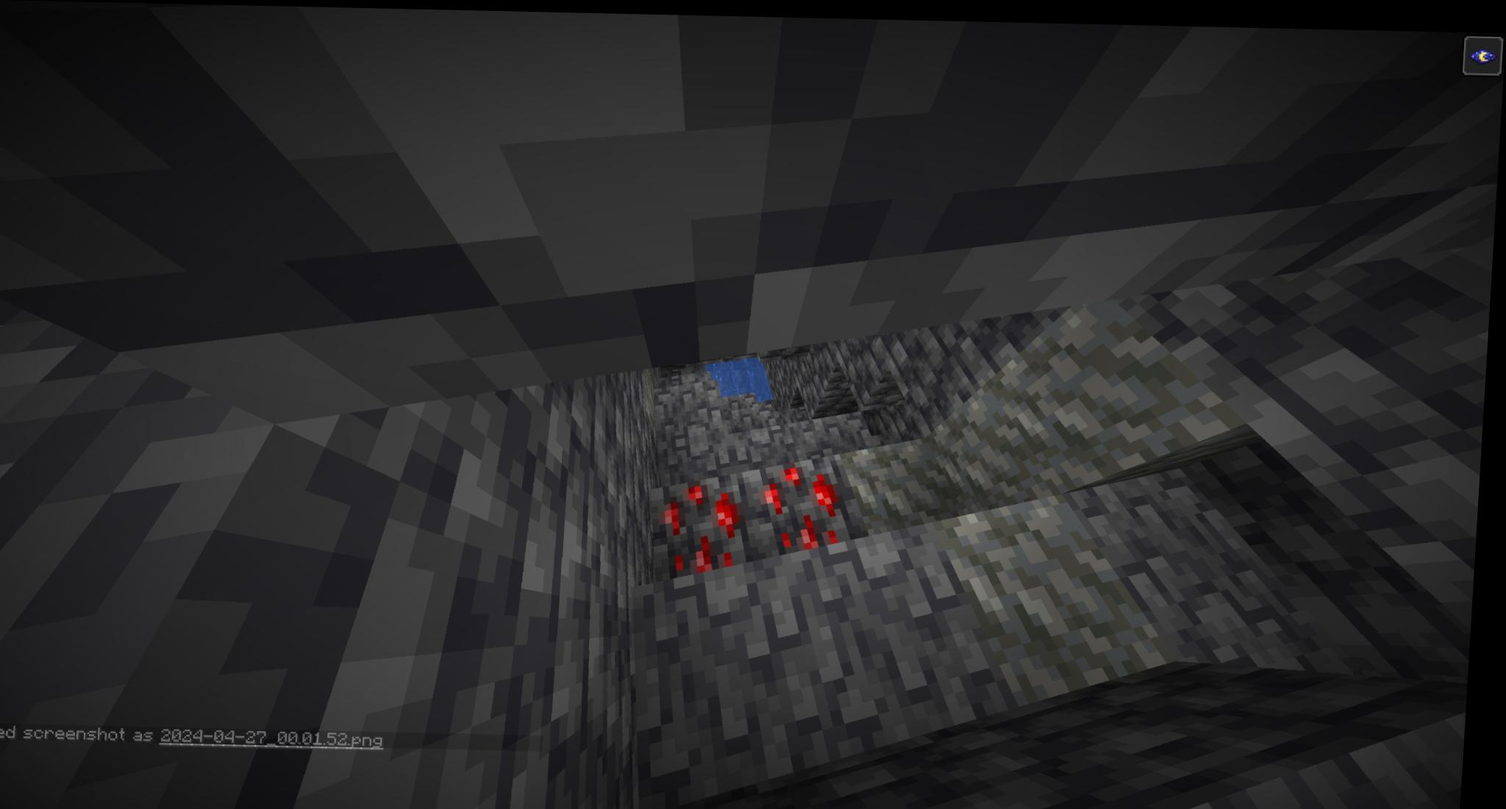redstone ore: (751, 455, 853, 557), (656, 470, 752, 578)
